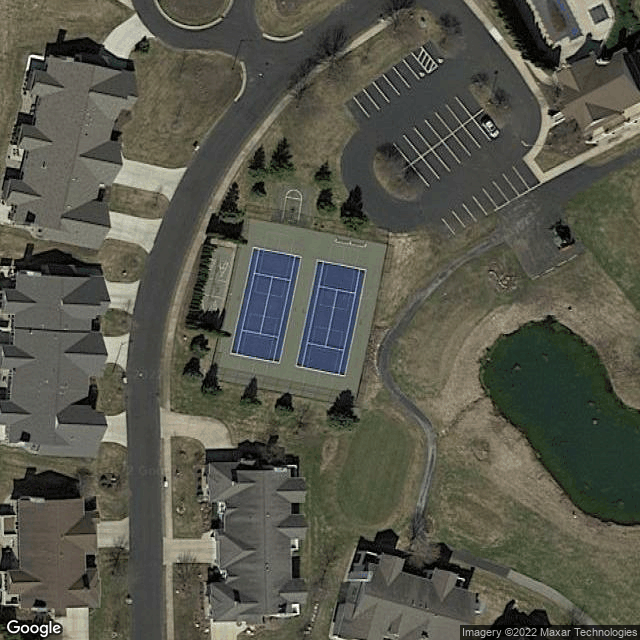Court: (228, 246, 302, 365), (296, 259, 369, 378)
